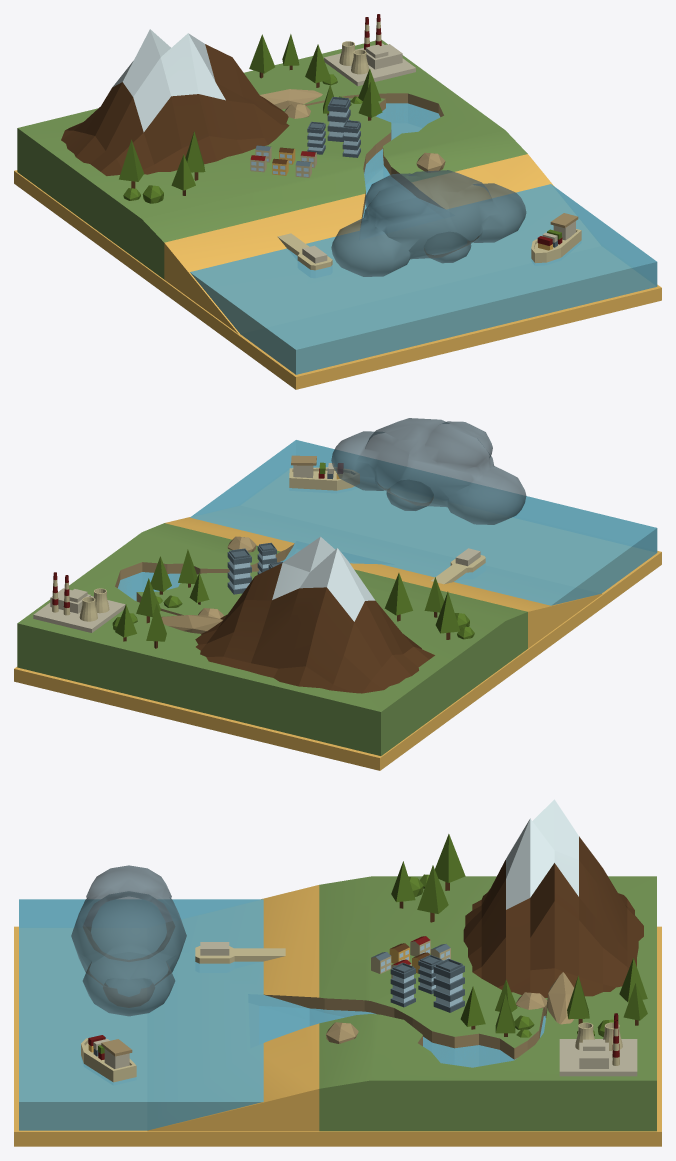
File: landscape1.dae
The picture shows the model from 3 angles, top to bottom: view 1: azimuth 30°, elevation 25°; view 2: azimuth 150°, elevation 25°; view 3: azimuth 270°, elevation 25°; orthographic projection. The views are drawn at different scales.
Visible parts, largest first — view 1: ocean, ground, Landscape, Cloud, sand, river, Extrude, tree (×2), Cube.3, rock.4, Cube.4, walls (+1 smaller); view 2: ground, ocean, Landscape, Cloud, sand, Cube.3, Extrude, rock.4, river, walls, Extrude.1, tree.1 (+1 smaller); view 3: ground, ocean, Landscape, Cloud, sand, Extrude, walls (×3), river, tree.1 (×3), tree (×3), Cube.3, rock.4 (+5 smaller).
Part boxes in pixels (bbox=[...]): ocean: bbox=[190, 184, 657, 374]; ground: bbox=[17, 40, 554, 334]; Landscape: bbox=[61, 29, 289, 175]; Cloud: bbox=[331, 170, 526, 276]; sand: bbox=[14, 170, 661, 389]; river: bbox=[364, 103, 440, 209]; Extrude: bbox=[305, 93, 443, 222]; tree (×2): bbox=[119, 44, 330, 181]; Cube.3: bbox=[324, 43, 415, 86]; rock.4: bbox=[260, 89, 322, 109]; Cube.4: bbox=[364, 44, 402, 69]; walls: bbox=[327, 97, 350, 141]; ground: bbox=[17, 517, 602, 755]; ocean: bbox=[190, 440, 657, 605]; Landscape: bbox=[195, 536, 434, 693]; Cloud: bbox=[331, 418, 526, 524]; sand: bbox=[14, 551, 661, 770]; Cube.3: bbox=[33, 596, 125, 632]; Extrude: bbox=[115, 543, 294, 615]; rock.4: bbox=[161, 615, 222, 633]; river: bbox=[117, 560, 285, 600]; walls: bbox=[227, 548, 251, 594]; Extrude.1: bbox=[289, 474, 359, 490]; tree.1: bbox=[384, 573, 412, 615]; ground: bbox=[147, 876, 656, 1131]; ocean: bbox=[19, 899, 309, 1130]; Landscape: bbox=[463, 799, 643, 997]; Cloud: bbox=[71, 865, 186, 1016]; sand: bbox=[14, 926, 661, 1146]; Extrude: bbox=[264, 994, 543, 1059]; walls (×3): bbox=[390, 955, 464, 1012]; river: bbox=[309, 1008, 545, 1067]; tree.1 (×3): bbox=[417, 865, 647, 1026]; tree (×3): bbox=[435, 834, 589, 1033]; Cube.3: bbox=[559, 1039, 637, 1076]; rock.4: bbox=[545, 972, 573, 1024].
Bounding box in the file's own units: 150 × 65.41 × 200.
